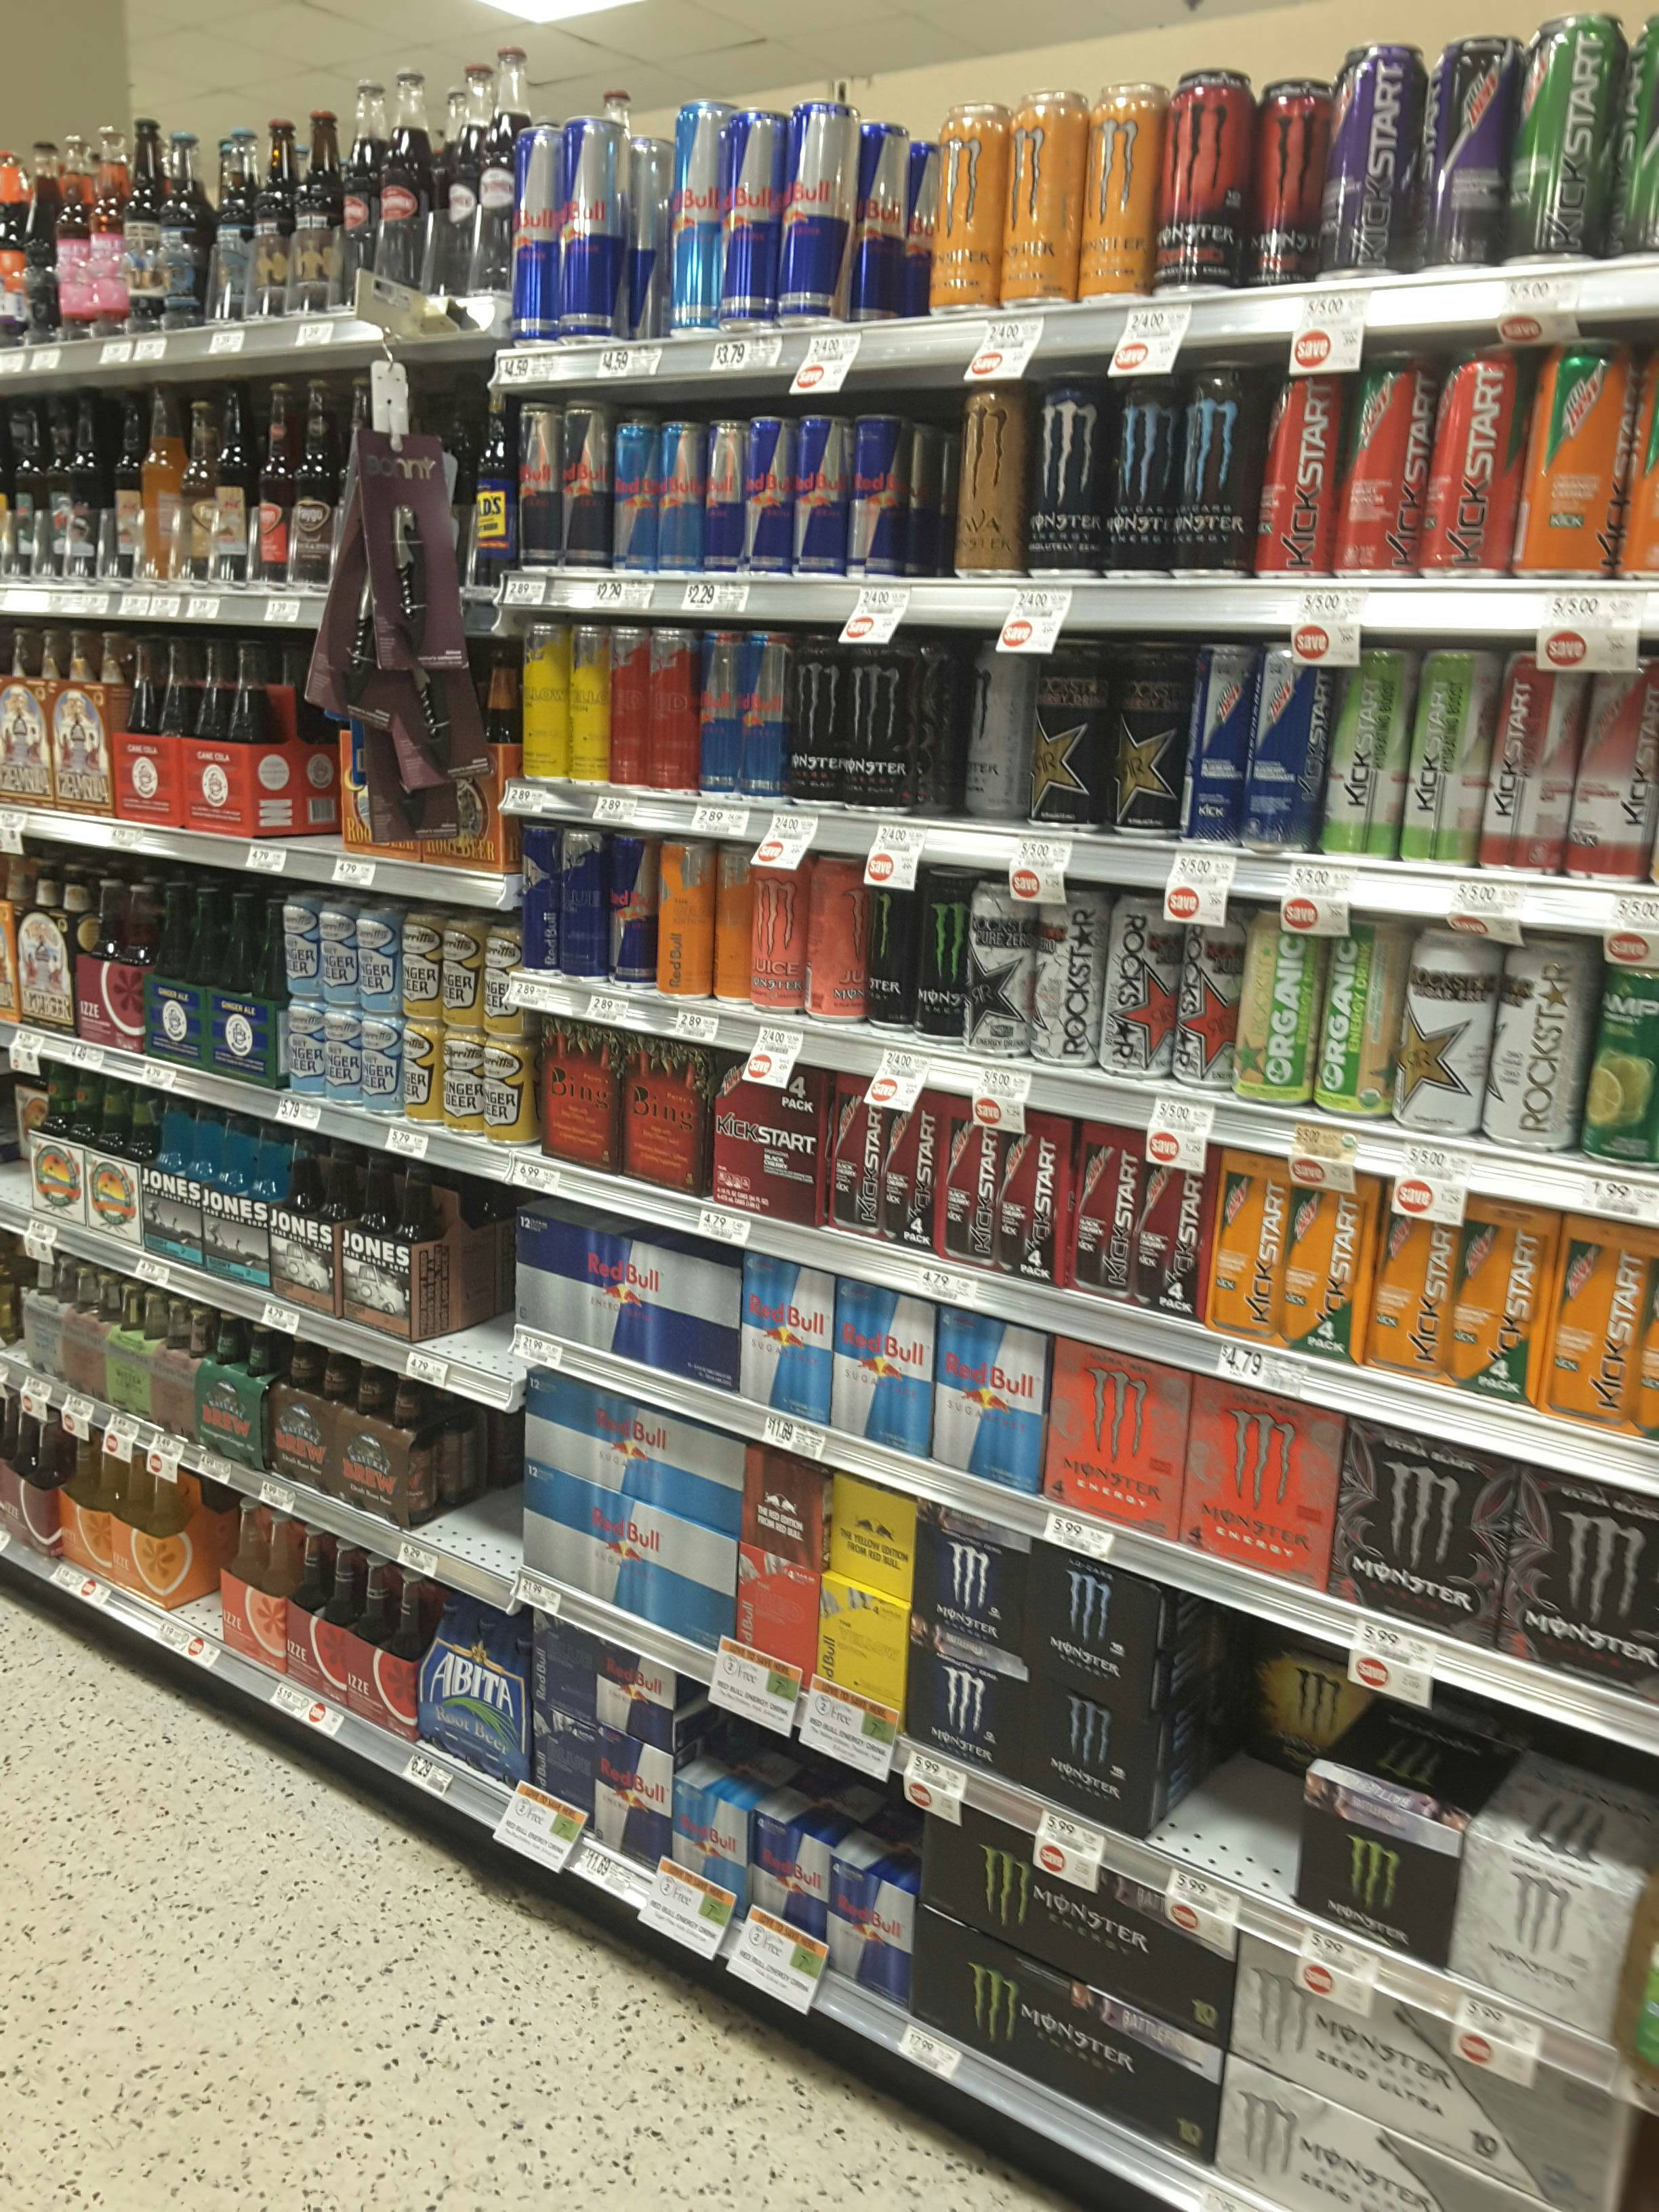Misplacement: (1162, 1573, 1354, 1885), (936, 627, 1033, 843)
Out-of-stock: (833, 117, 936, 341), (415, 1381, 518, 1580), (425, 1183, 514, 1383), (603, 122, 669, 357), (159, 1463, 220, 1641), (892, 420, 957, 587)
